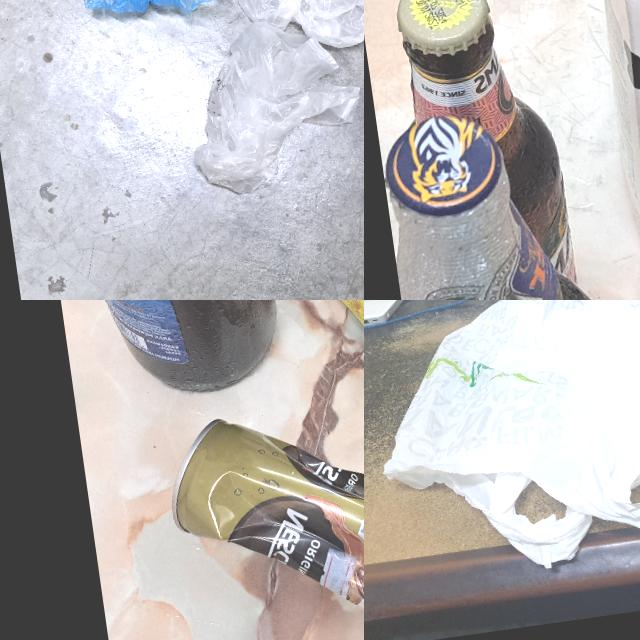caixinha: (578, 0, 640, 270)
garrafa de vidro: (393, 0, 578, 300), (377, 94, 640, 300), (30, 300, 289, 410)
lata: (162, 384, 364, 640)
sacola plástica: (364, 300, 640, 590), (177, 13, 364, 202), (221, 0, 364, 57)
